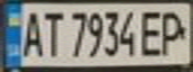3: (103, 8, 121, 57)
4: (118, 7, 142, 58)
7: (63, 7, 87, 58)
9: (84, 8, 106, 57)
A: (18, 7, 45, 58)
E: (136, 7, 169, 57)
P: (157, 7, 190, 56)
T: (39, 7, 66, 58)
